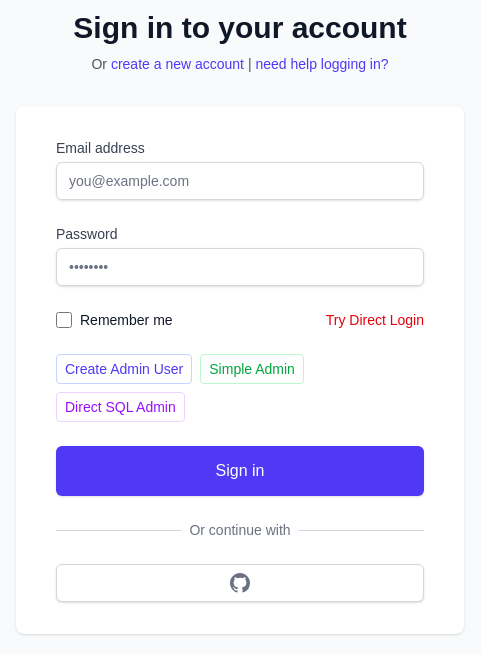
Scenario: Login Page › displays an error message on login failure
Fill in the form
Type "test@example.com" into the field labelled "Email address". click: (240, 181)
box: [56,162,424,200]
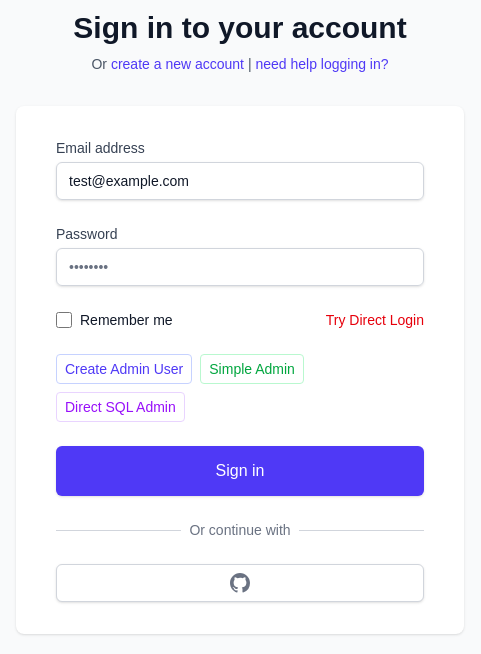
Type "wrongpassword" into the password field labelled "Password". click: (240, 267)
box: [56,248,424,286]
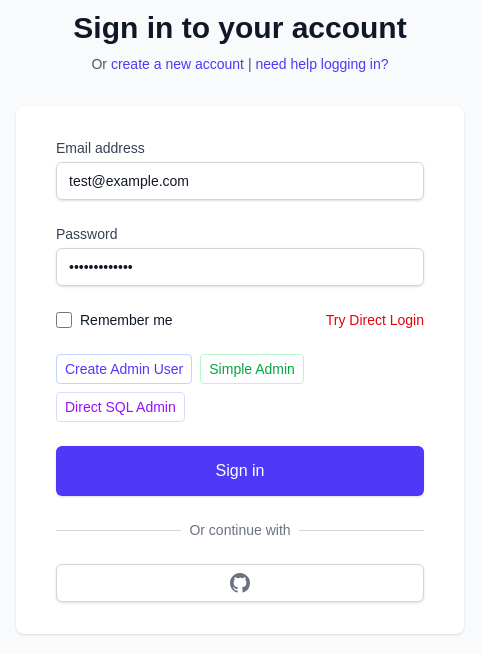
Submit the form
Click the button "Sign in". click: (240, 471)
box: [56,446,424,496]
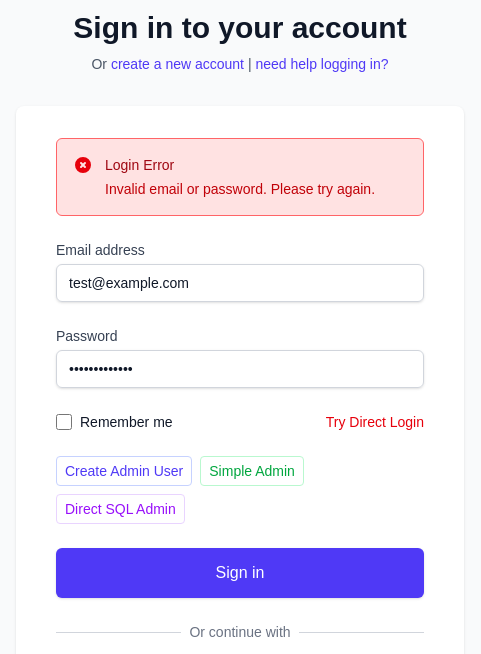
Now the text "Invalid email or password. Please try again." is shown, box [105,179,375,199]
